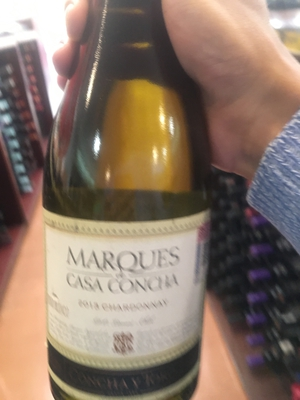marques de casa concha chardonnay: (37, 4, 208, 400)
